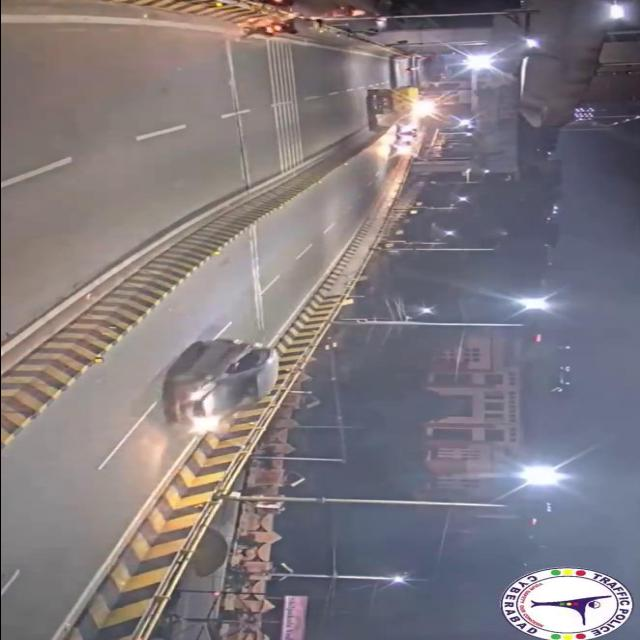accident: (235, 13, 309, 44)
